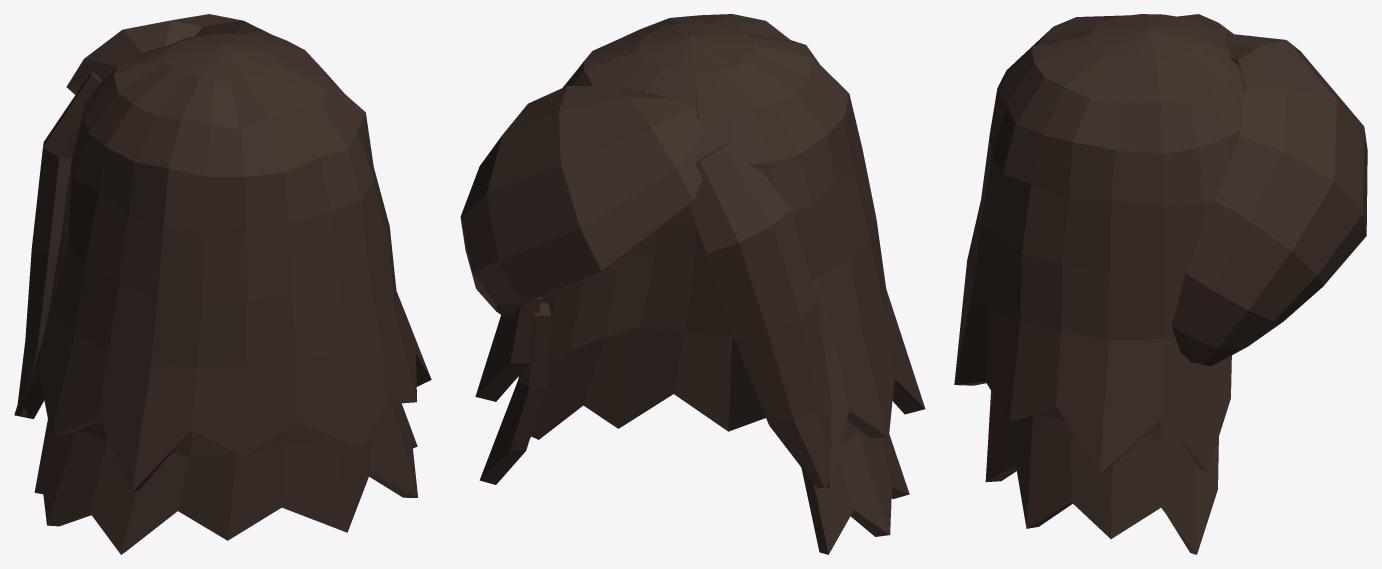
Rendered from lwf_hair_female_default_v1.glb.
The picture shows the model from 3 angles, left to right: view 1: azimuth 30°, elevation 25°; view 2: azimuth 150°, elevation 25°; view 3: azimuth 270°, elevation 25°; orthographic projection. The views are drawn at different scales.
Parts seen in each view (by area): view 1: LWF_Hair_Default; view 2: LWF_Hair_Default; view 3: LWF_Hair_Default.
Boxes of the visible parts, box(x1,y1,x2,y2) form: LWF_Hair_Default: box(14, 14, 431, 554); LWF_Hair_Default: box(460, 14, 925, 554); LWF_Hair_Default: box(954, 14, 1367, 554).
Size of the model in its own units: 0.341 by 0.3995 by 0.3364.
1 material, 1 textured.
